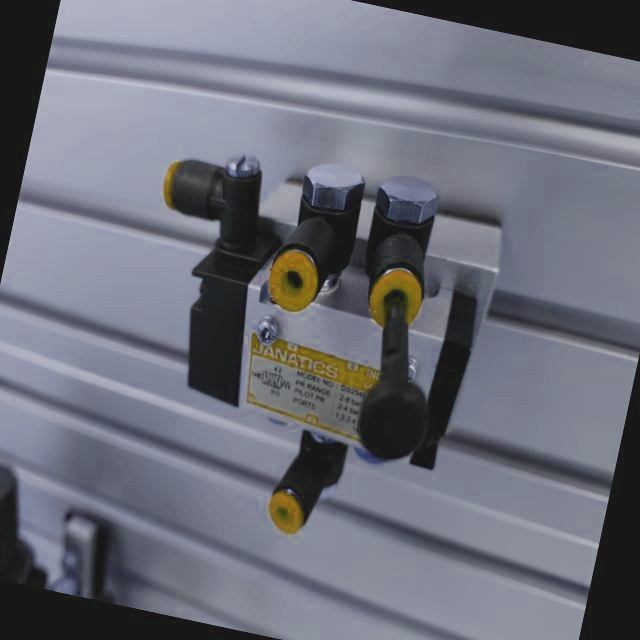5by2 DCV: (90, 117, 535, 577)
